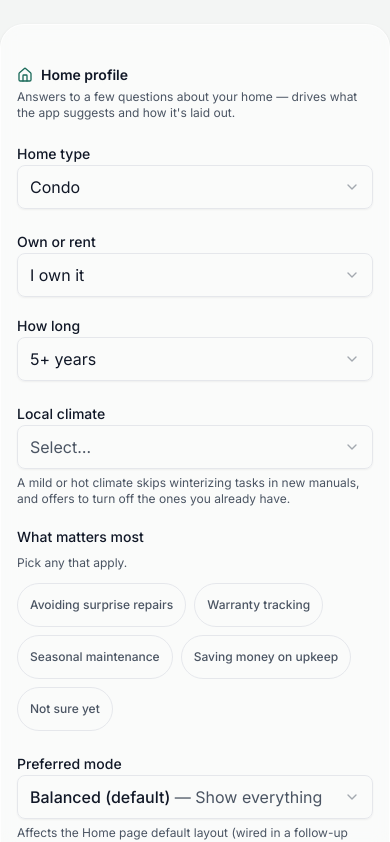
Test: Settings › Home profile · the winterizing offer after a Mild/Hot save › Undo puts back exactly what was turned off
What coordinates should you click on to do the following:
click the dropdown named "Local climate"
I would click on:
 (60, 447)
Its box is [17,425,373,469].
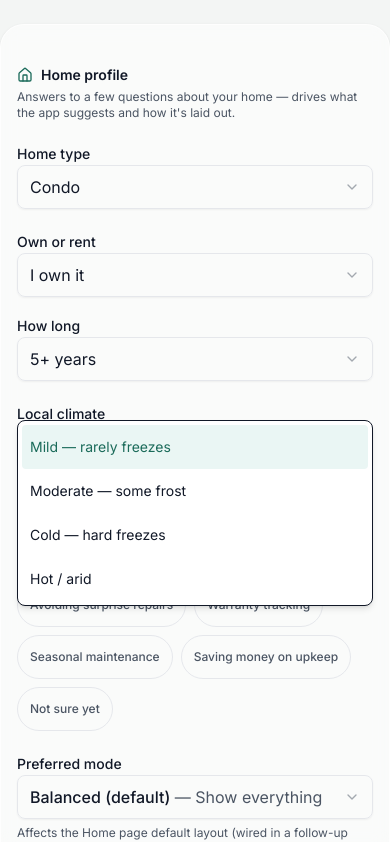
What coordinates should you click on to do the following:
click the option "Mild — rarely freezes"
I would click on:
 (100, 446)
Its box is [22,425,368,469].
(page scrolled)
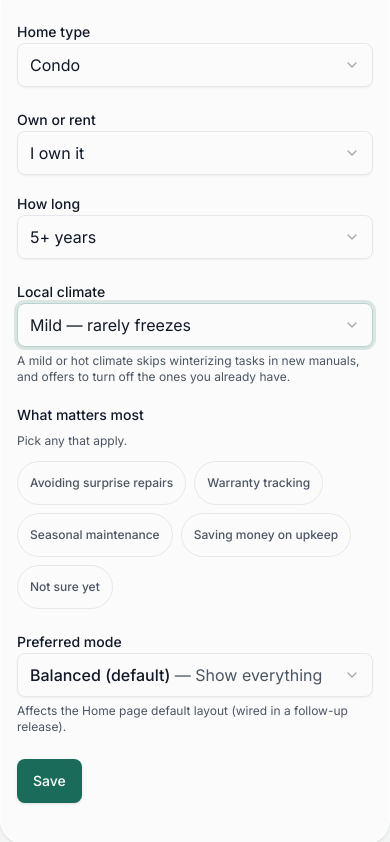
What coordinates should you click on to do the following:
click the button "Save"
I would click on:
 (49, 781)
Its box is [17,759,82,803].
(page scrolled)
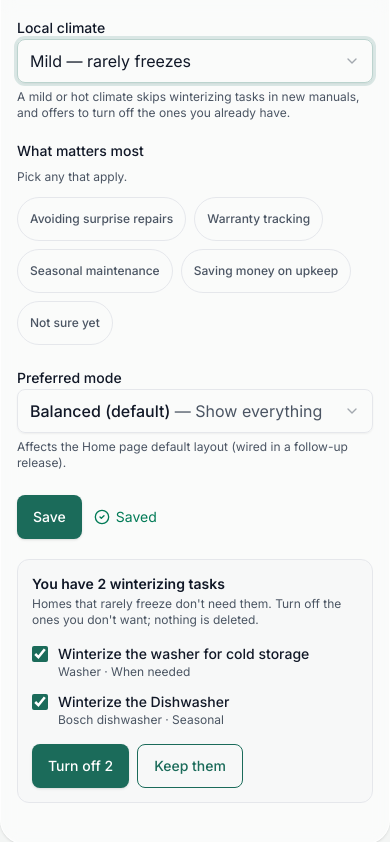
What coordinates should you click on to do the following:
click the checkbox labelled "Winterize the Dishwasher Bosch dishwasher · Seasonal"
I would click on:
 (40, 702)
Its box is [32,694,48,710].
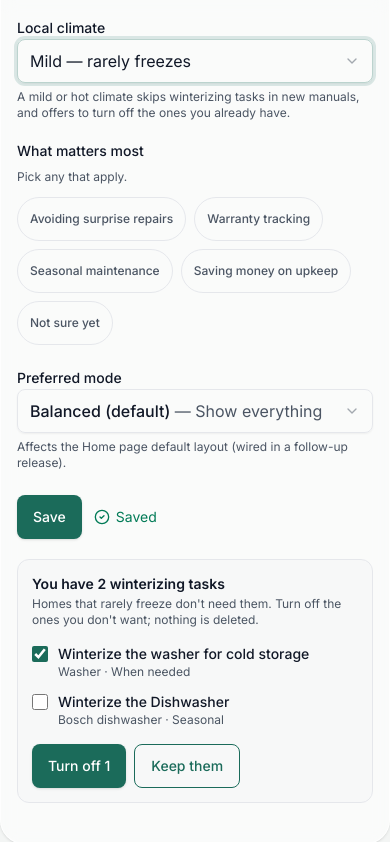
What coordinates should you click on to do the following:
click the button "Turn off 1"
I would click on:
 (79, 766)
Its box is [32,744,126,788].
(page scrolled)
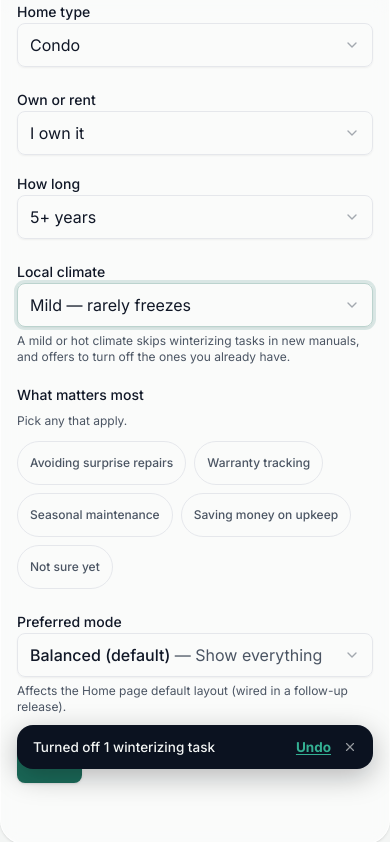
What coordinates should you click on to do the following:
click the button "Undo"
I would click on:
 (313, 747)
Its box is [296,737,331,757].
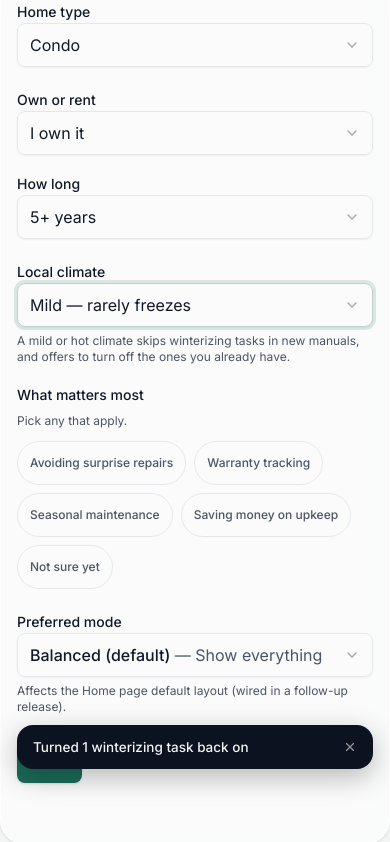
Expected: the message reads "Turned 1 winterizing task back on", [33,739,248,755]
